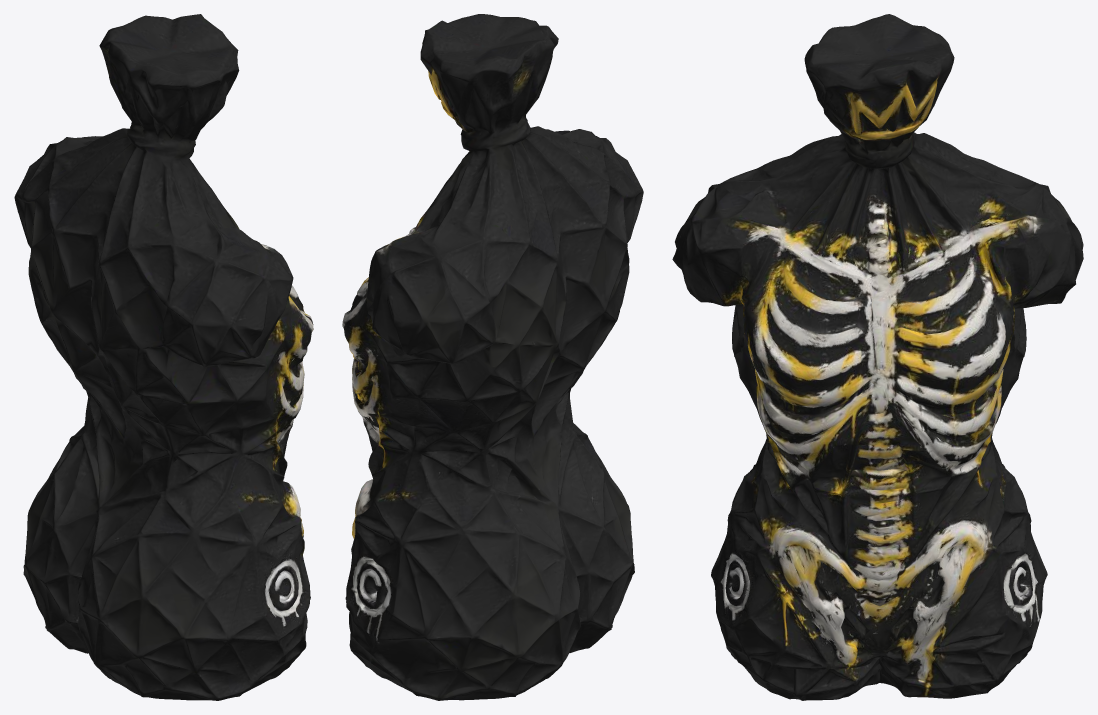
The model's file is ts_crownbag.glb.
The picture shows the model from 3 angles, left to right: view 1: azimuth 30°, elevation 25°; view 2: azimuth 150°, elevation 25°; view 3: azimuth 270°, elevation 25°; orthographic projection.
Visible parts, largest first — view 1: tripo_node_b494b835-4379-47b5-be6f-76350b005376; view 2: tripo_node_b494b835-4379-47b5-be6f-76350b005376; view 3: tripo_node_b494b835-4379-47b5-be6f-76350b005376.
Part boxes in pixels (box(x1,y1,x2,y2)): tripo_node_b494b835-4379-47b5-be6f-76350b005376: box(14, 14, 313, 700); tripo_node_b494b835-4379-47b5-be6f-76350b005376: box(342, 14, 643, 700); tripo_node_b494b835-4379-47b5-be6f-76350b005376: box(672, 14, 1083, 700).
Size of the model in its own units: 0.3695 by 1 by 0.6006.
1 material, 1 textured.
